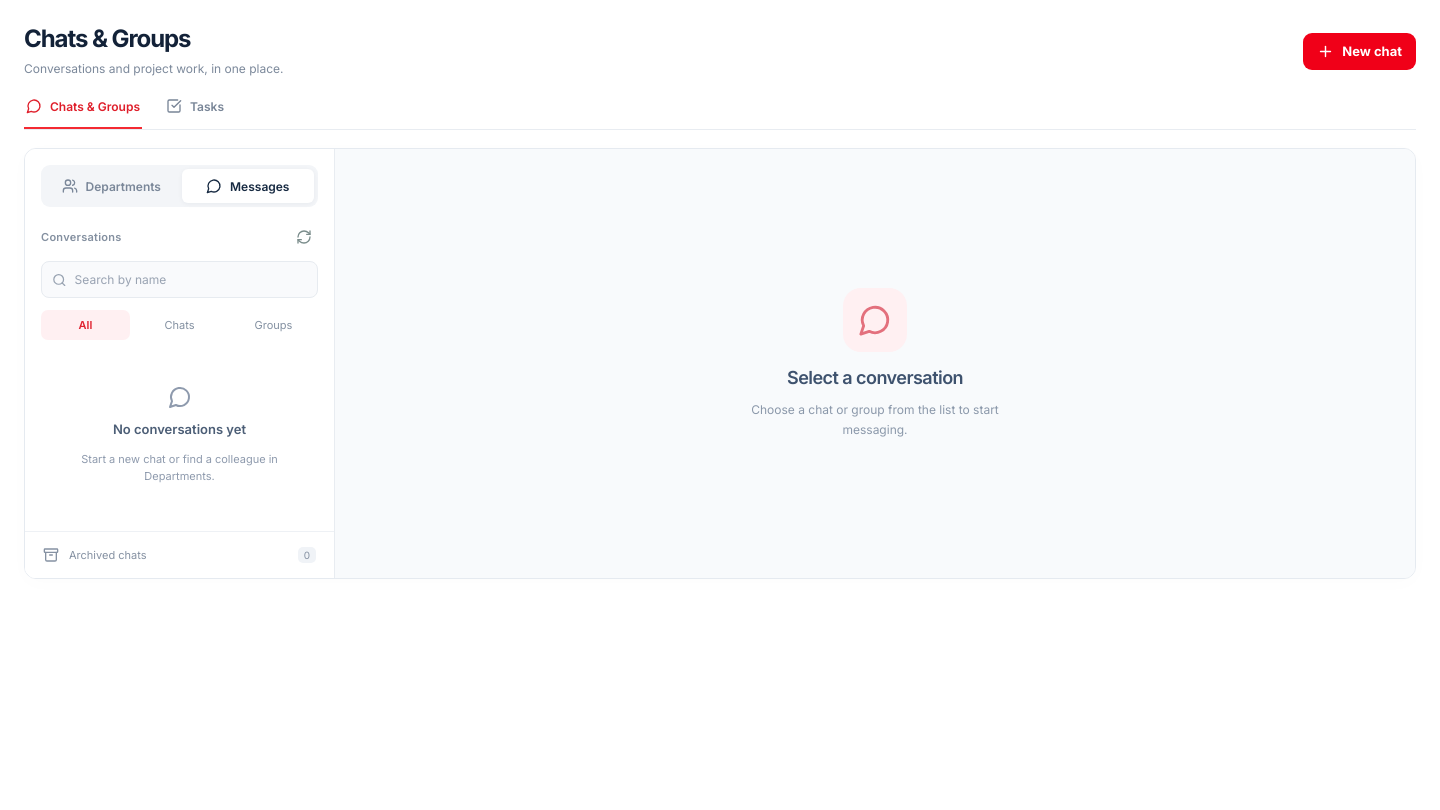
Test case: Department chat navigation and Senior project groups › opens a direct conversation only after a department employee is clicked
Click the button "Departments" at (111, 186), box [45,169,178,203]
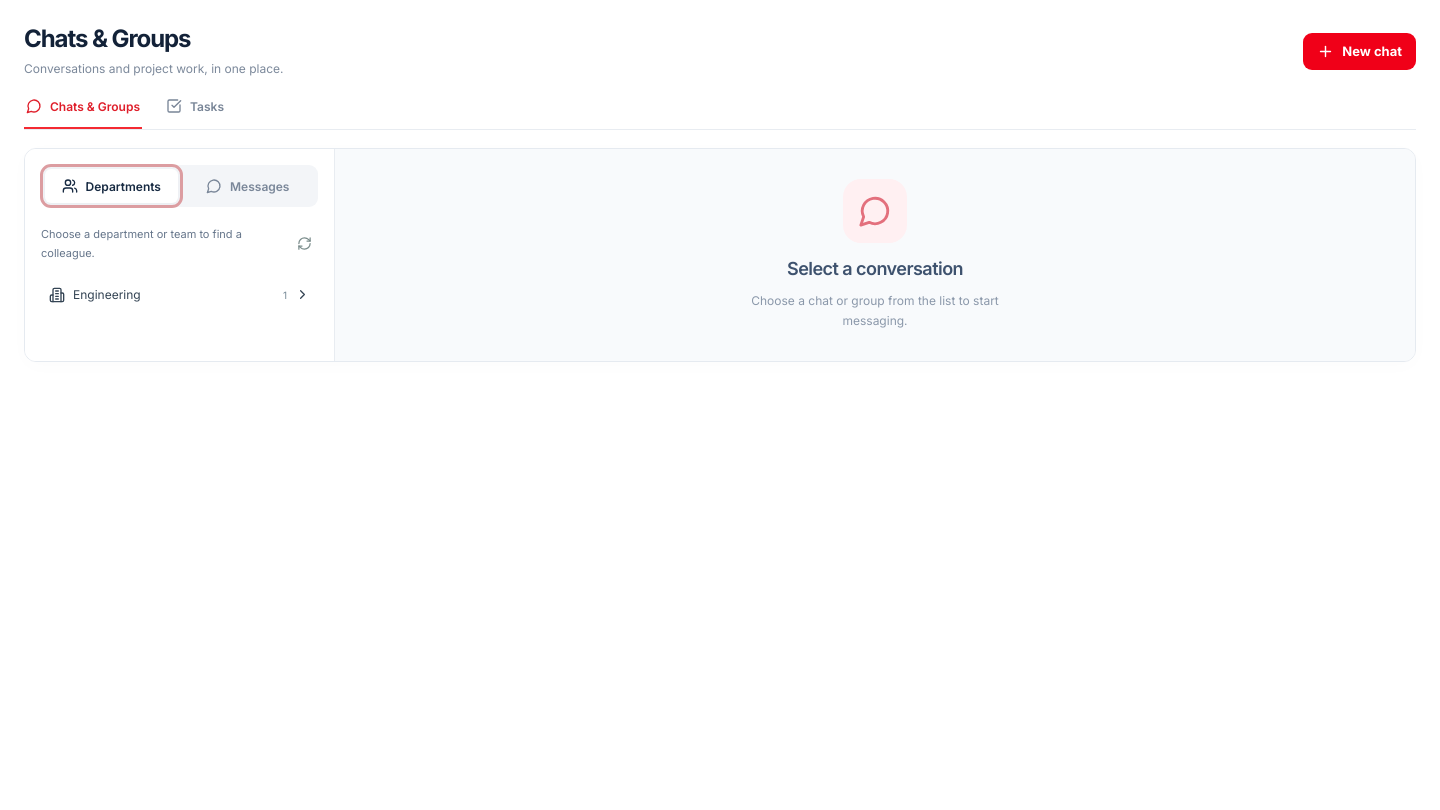
Click the button "Engineering 1" at (107, 295), box [41,275,318,315]
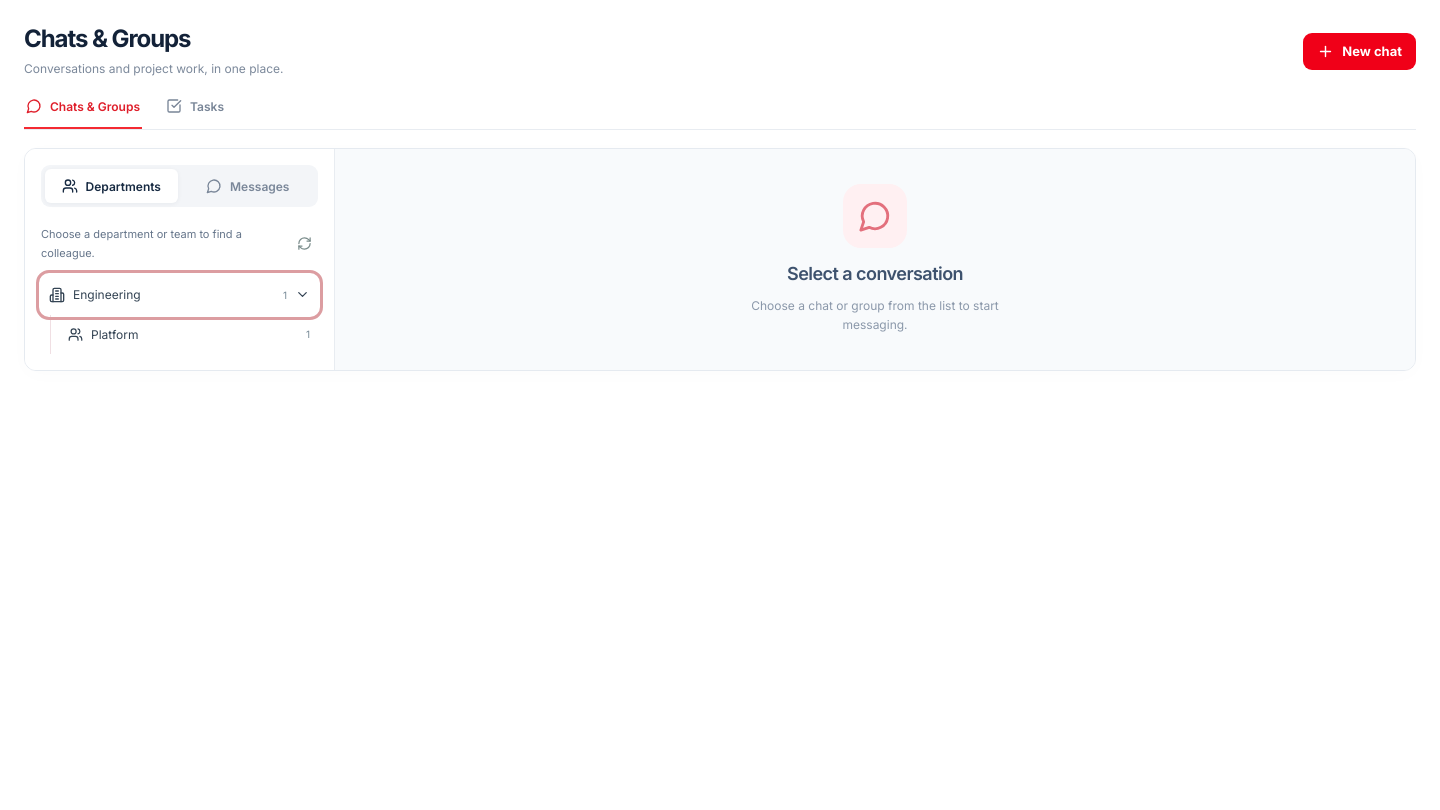
Click the button "Platform 1" at (189, 334), box [60,315,318,354]
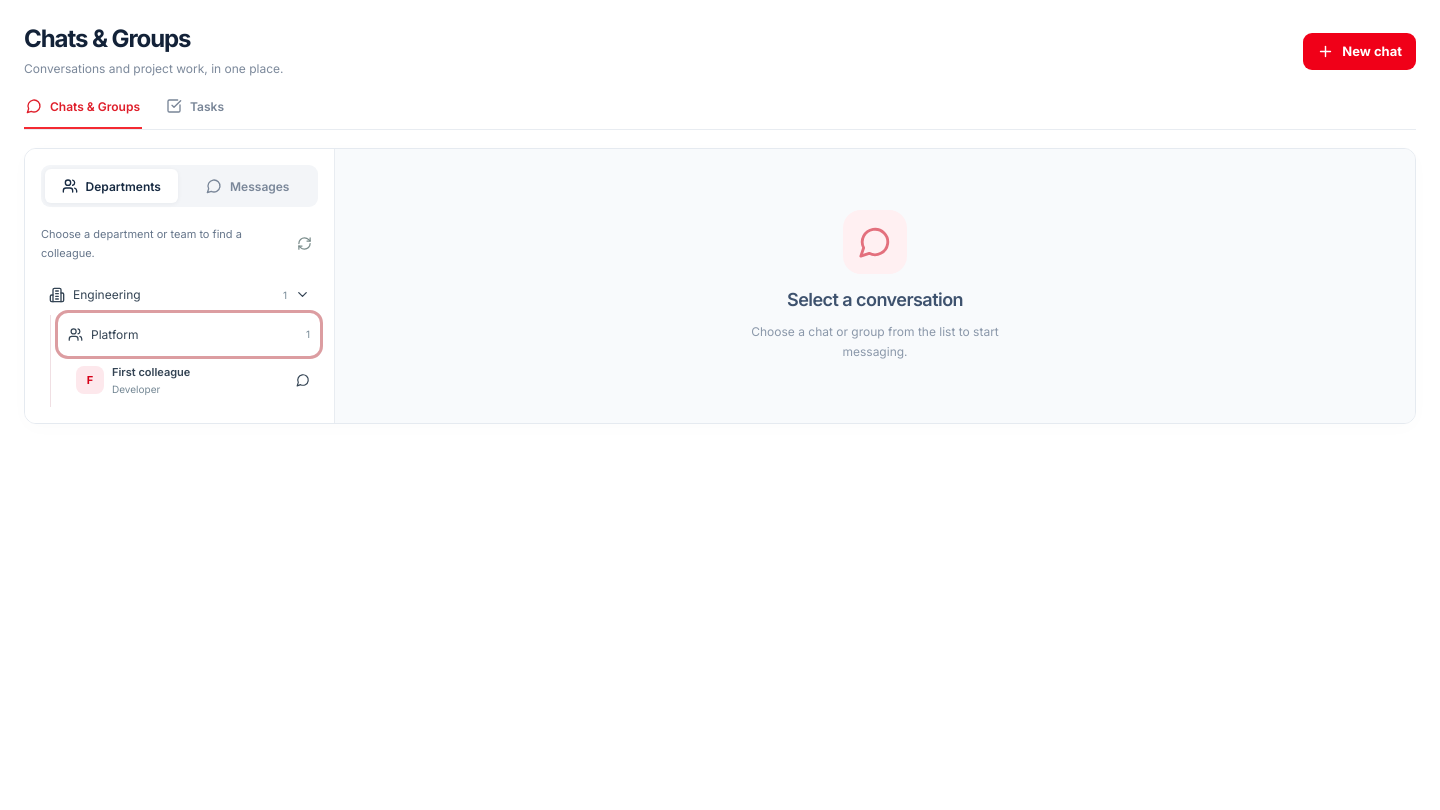
Click the button with aria-label "Chat with First colleague" at (193, 380), box [68,354,318,407]
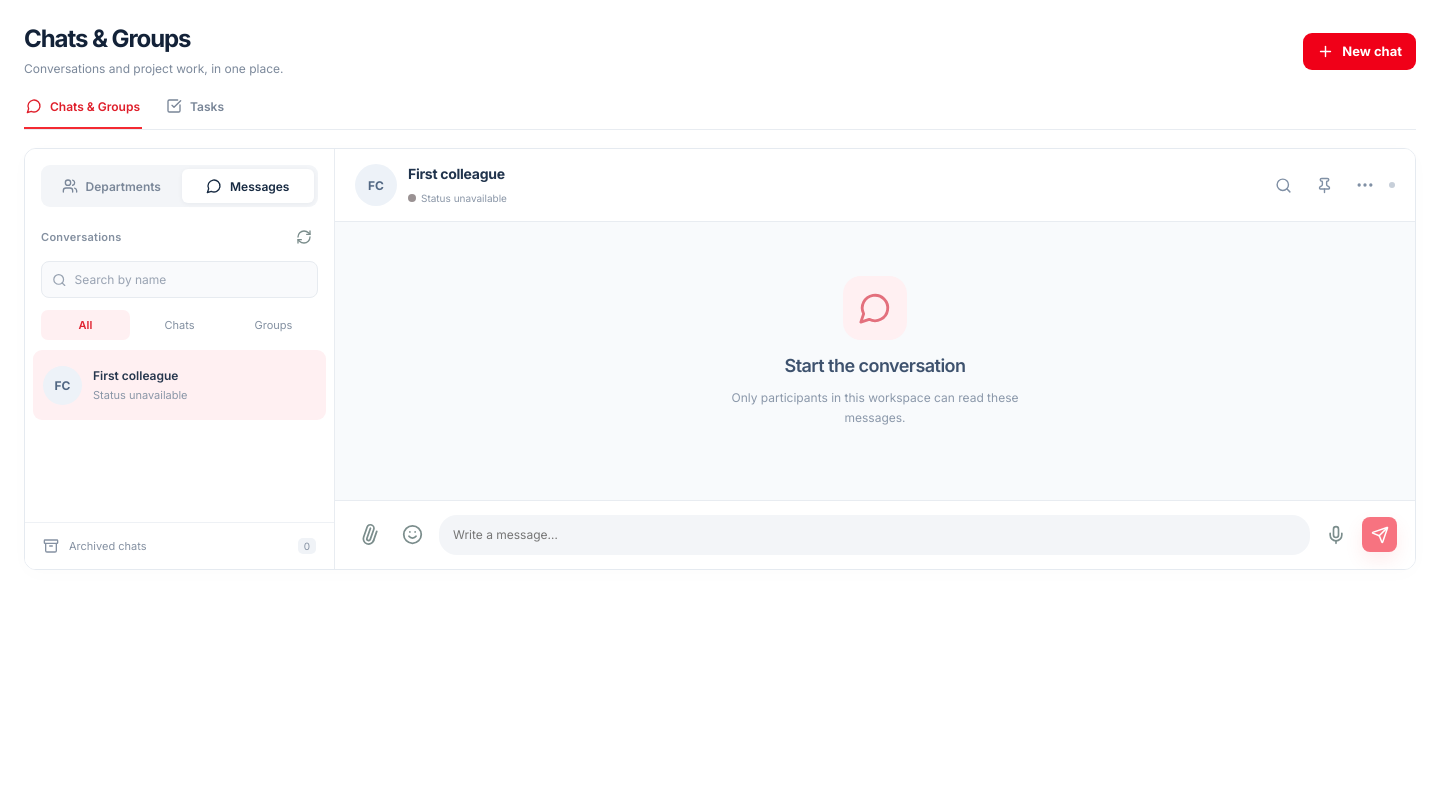
Result: the heading "First colleague" is shown at [408,165,505,182]
